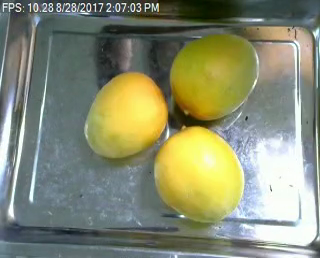Mango: (150, 125, 241, 222), (169, 31, 262, 122), (83, 71, 169, 159)
